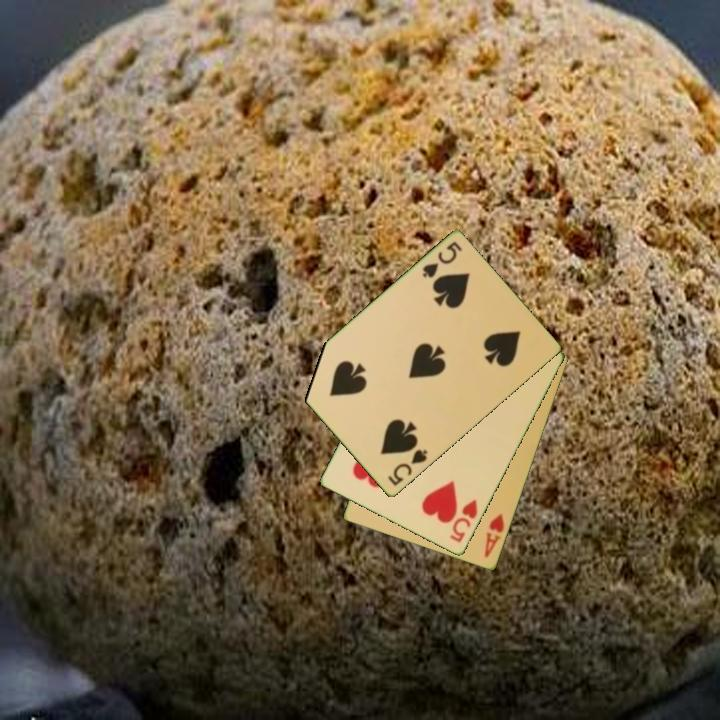5h: (447, 496, 481, 546)
5s: (418, 238, 465, 281), (384, 446, 430, 489)
Ah: (481, 510, 507, 560)
